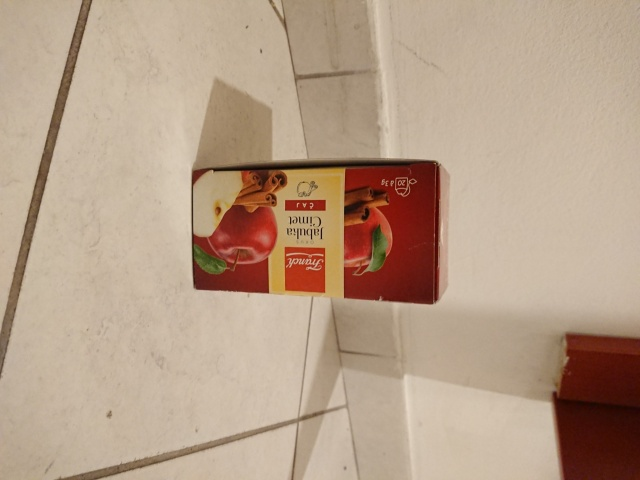Franck Apple Cinnamon Tea 60g: (187, 154, 453, 308)
